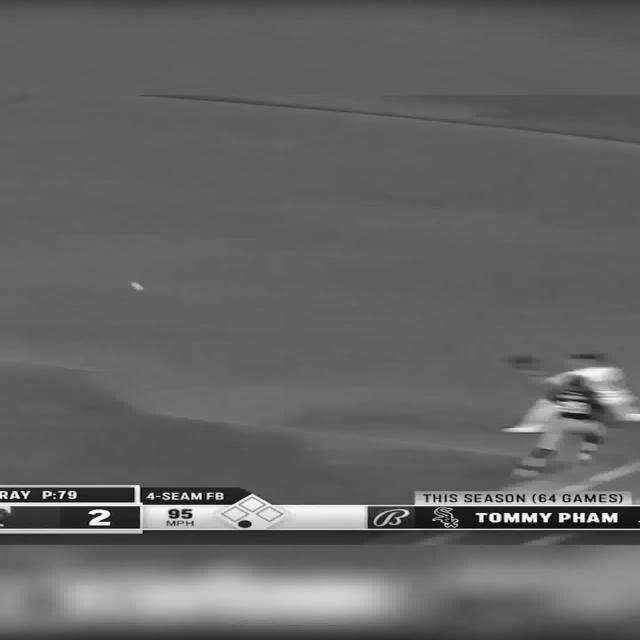baseball: (129, 281, 144, 292)
baseball_glove: (512, 353, 528, 368)
shoe: (510, 466, 540, 478), (575, 451, 593, 462)
